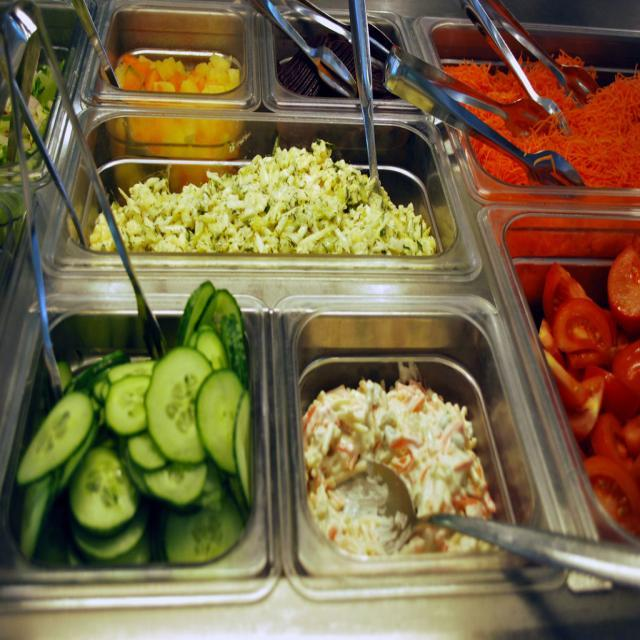Salad: (299, 366, 495, 564)
